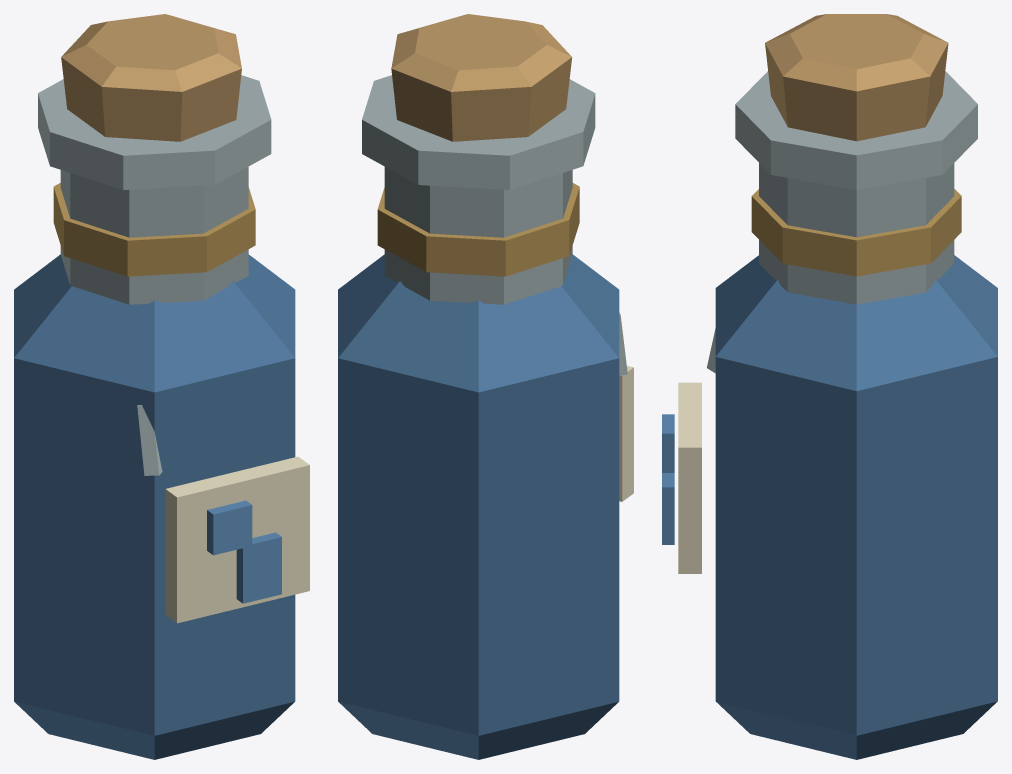
File: item_potion_mana.glb
3 renders of one model, left to right at view 1: azimuth 30°, elevation 25°; view 2: azimuth 150°, elevation 25°; view 3: azimuth 270°, elevation 25°, orthographic.
Visible parts, largest first — view 1: item_potion_mana; view 2: item_potion_mana; view 3: item_potion_mana.
Boxes of the visible parts, x1=… form: item_potion_mana: x1=14, y1=14, x2=309, y2=759; item_potion_mana: x1=338, y1=14, x2=633, y2=759; item_potion_mana: x1=662, y1=14, x2=997, y2=759.
Bounding box in the file's own units: 0.18 × 0.407 × 0.1854.
